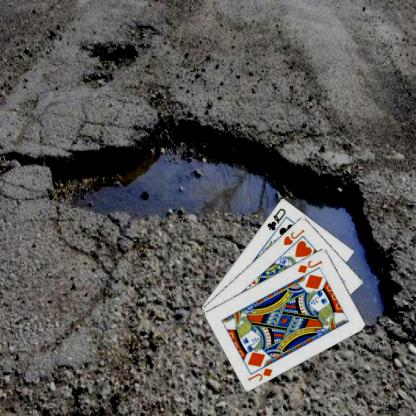JD: (245, 365, 274, 382), (295, 258, 323, 274)
JH: (281, 226, 306, 247)
QC: (264, 205, 287, 232)
